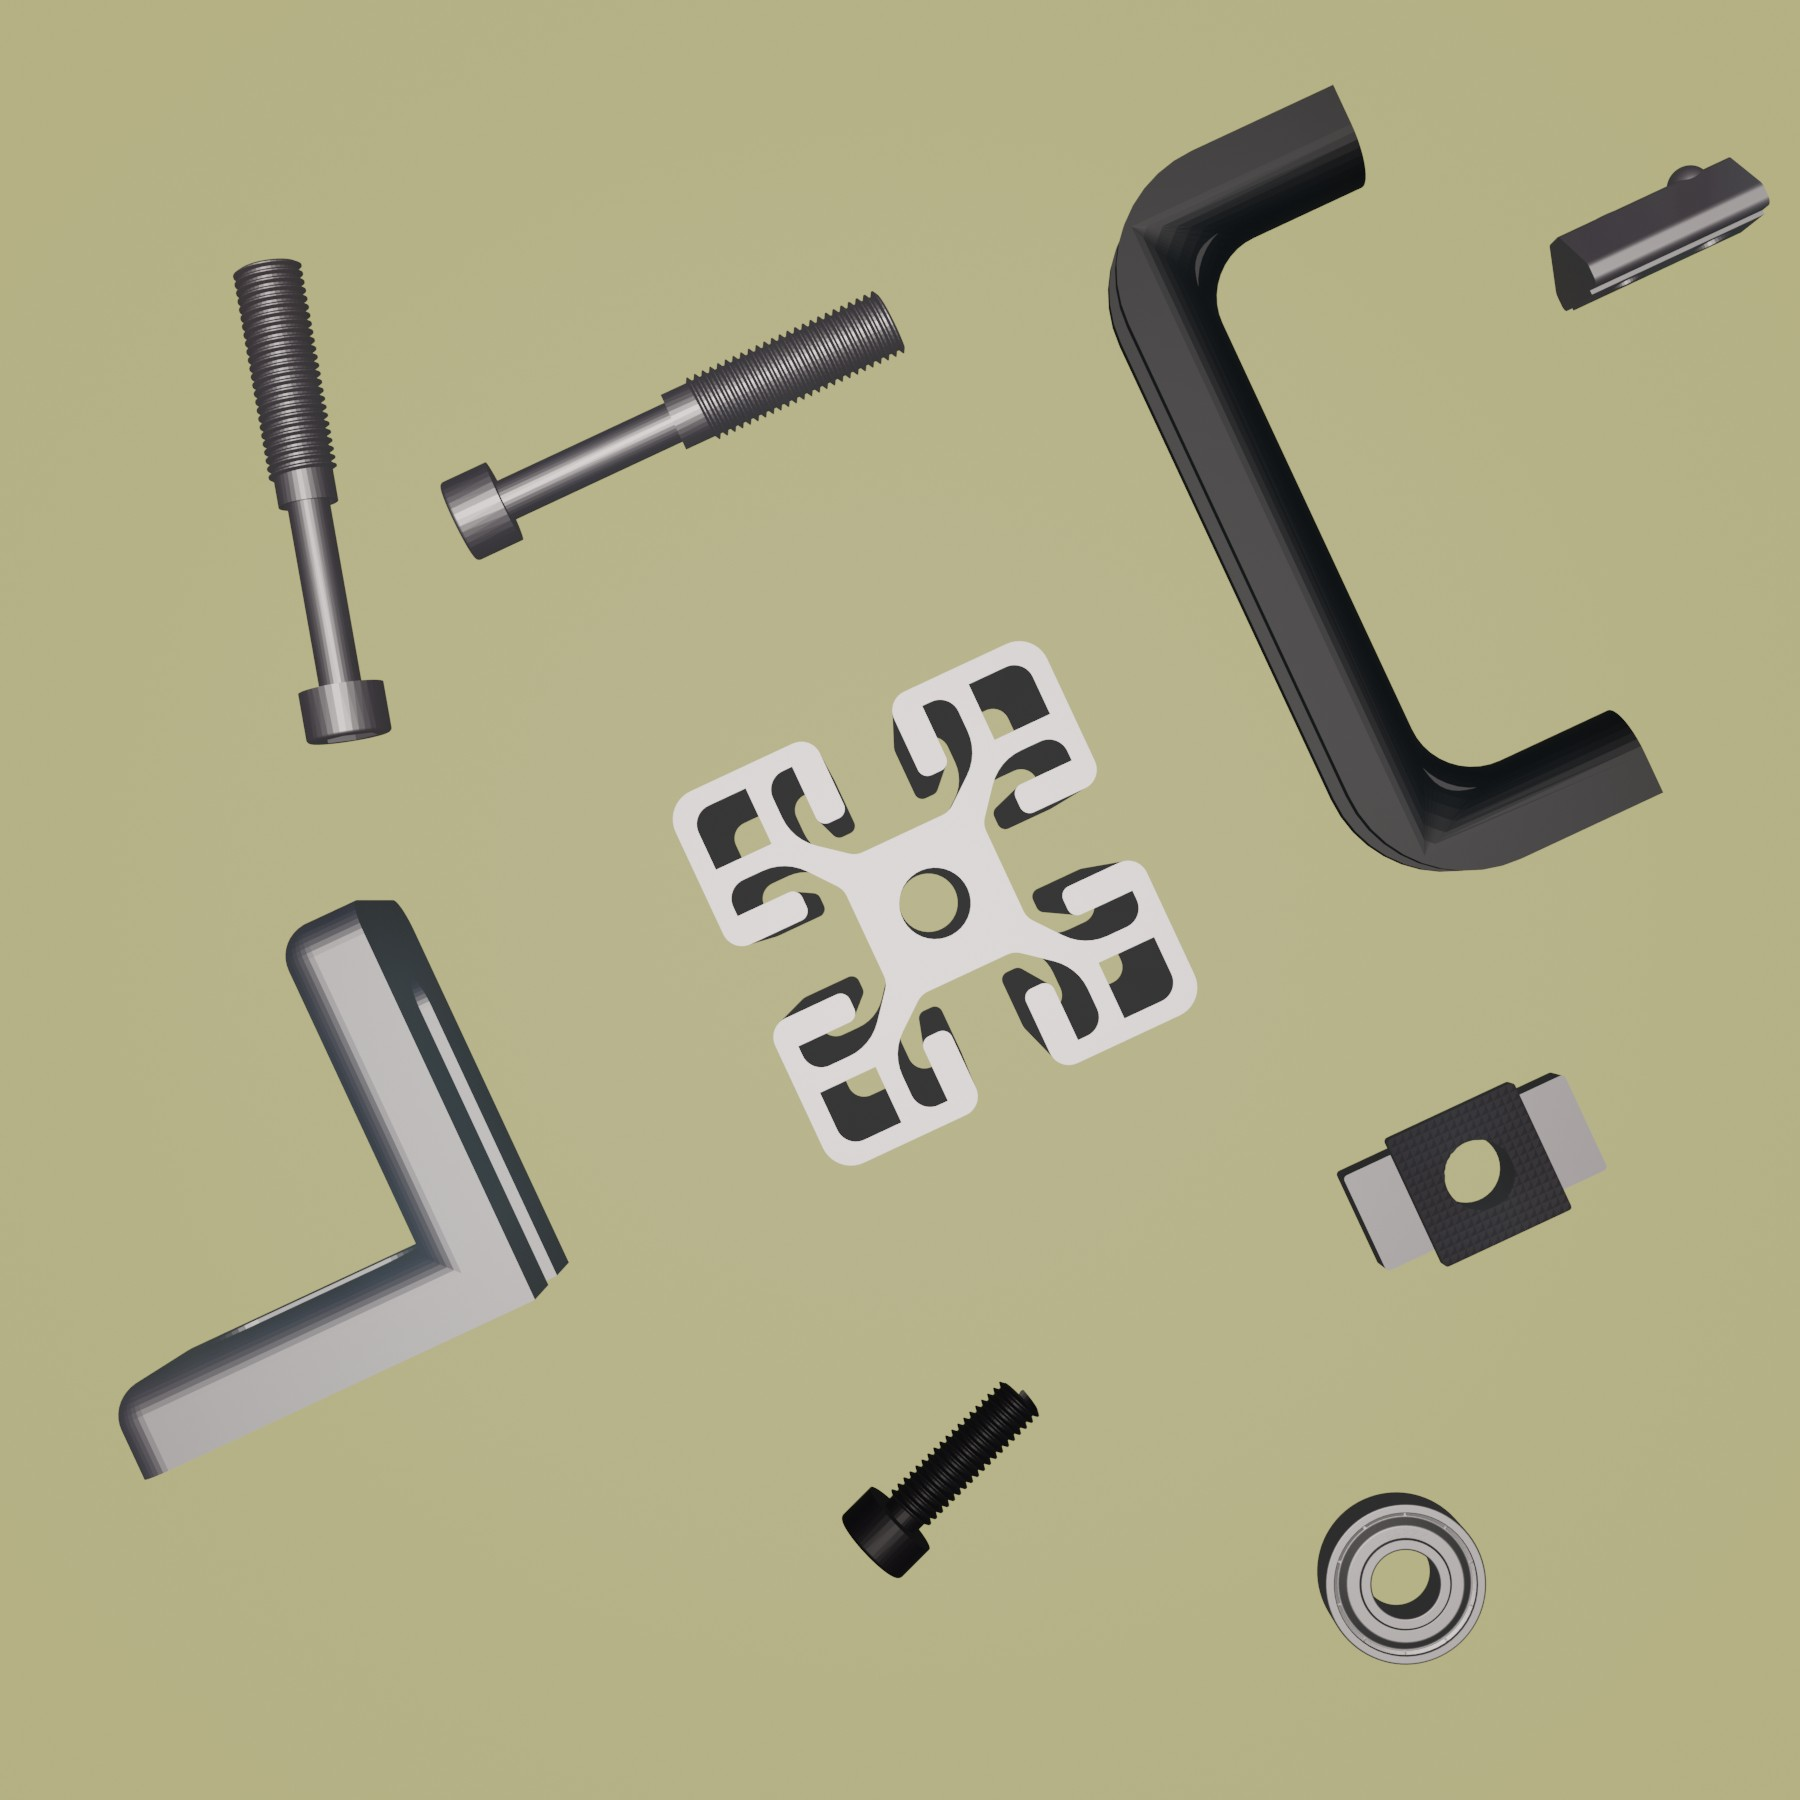Aluminium Extension: (669, 635, 1202, 1169)
Ball Bearing: (1314, 1488, 1488, 1666)
Multiwinkel: (115, 897, 574, 1482)
Pull Handle: (1104, 82, 1662, 874)
Shoulder Socket Head Cap Screw: (438, 287, 908, 562), (229, 254, 394, 747)
Socket Head Cap Screw: (837, 1376, 1042, 1581)
T Nut Square: (1332, 1066, 1609, 1273)
T Spring Nut: (1546, 152, 1770, 315)
